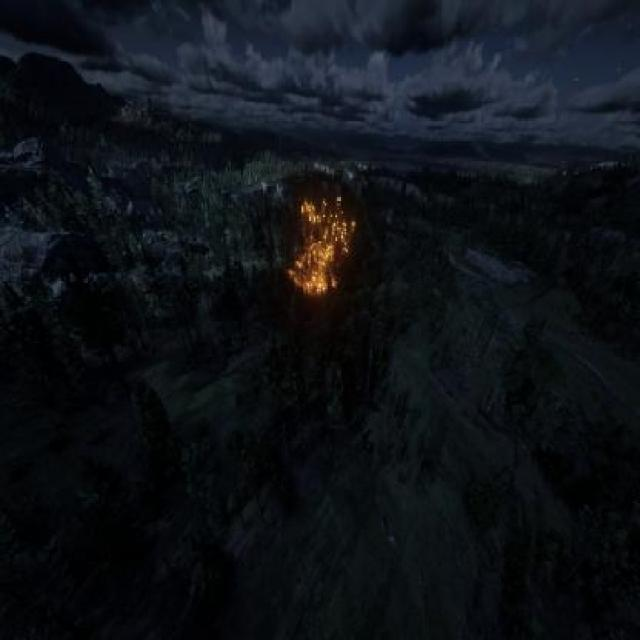Fire: (269, 180, 372, 310)
